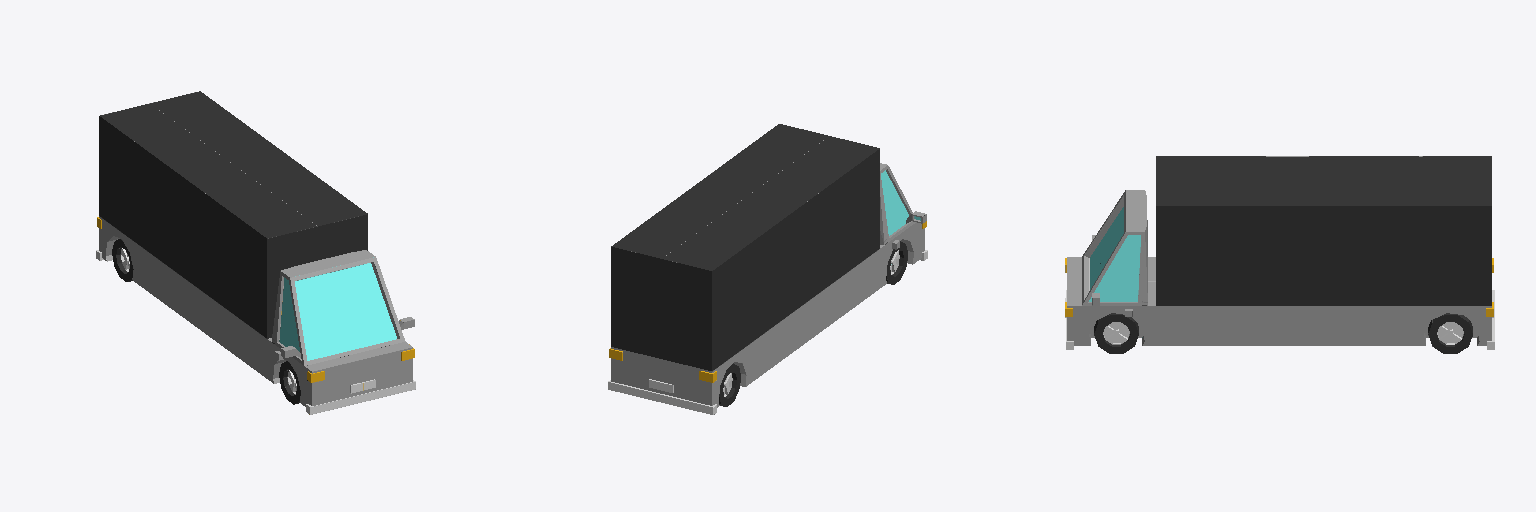
3 renders of one model, left to right at view 1: azimuth 30°, elevation 25°; view 2: azimuth 150°, elevation 25°; view 3: azimuth 270°, elevation 25°, orthographic.
Size of the model in its own units: 2.68 by 2.95 by 7.67.
1 materials, 1 textured.